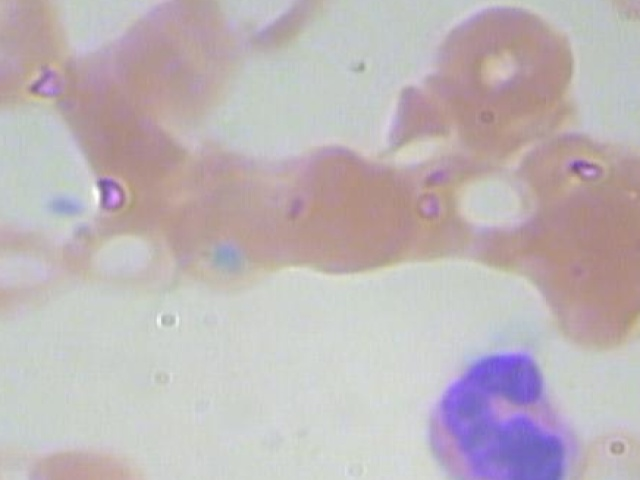RBC: (267, 139, 419, 275), (424, 0, 588, 126), (103, 0, 254, 128), (533, 196, 640, 354), (57, 193, 188, 304), (0, 192, 67, 328), (16, 432, 147, 480), (624, 28, 640, 164), (600, 0, 640, 37), (0, 66, 5, 202)
WBC: (392, 340, 592, 480)
